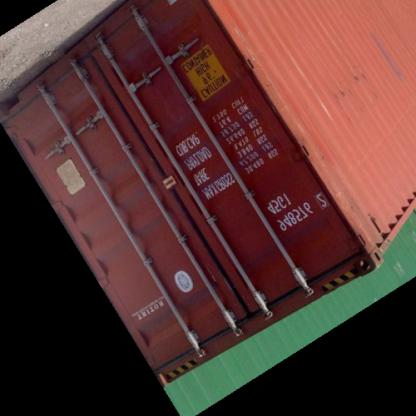Damage: (300, 101, 388, 268)
